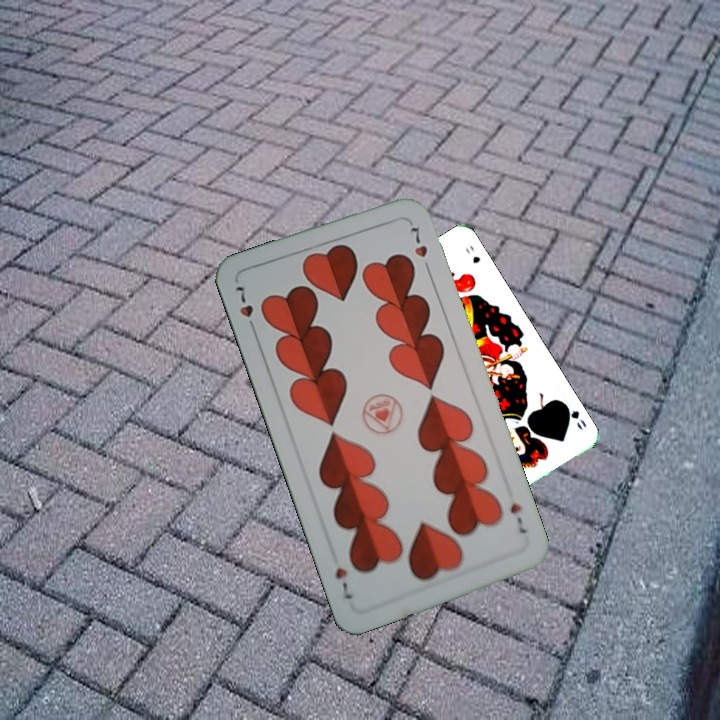GO: (559, 399, 589, 433)
H7: (231, 282, 259, 336), (506, 498, 529, 537)
